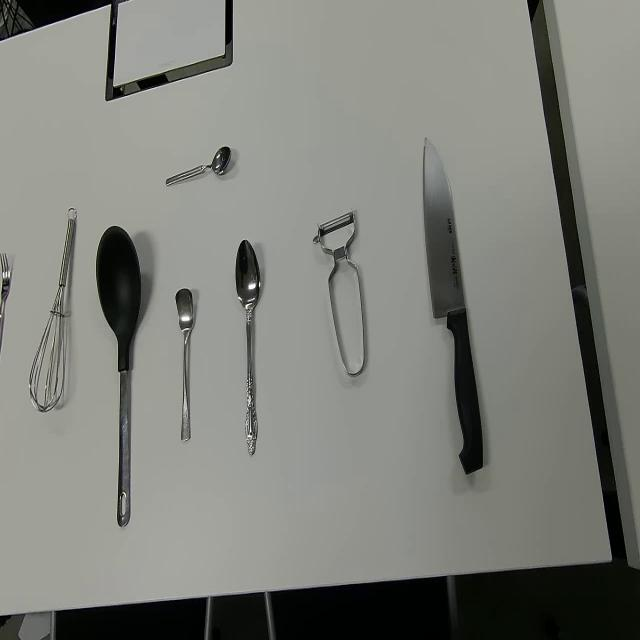Desert-Spoon: (235, 238, 261, 456)
Dinner-Fork: (0, 246, 11, 348)
Kitchen-Knife: (422, 136, 484, 476)
Peeler: (312, 205, 366, 378)
Serving-Spoon: (95, 223, 142, 530)
Tea-Spoon: (174, 286, 194, 444), (165, 144, 232, 188)
Whisk: (28, 206, 78, 414)
